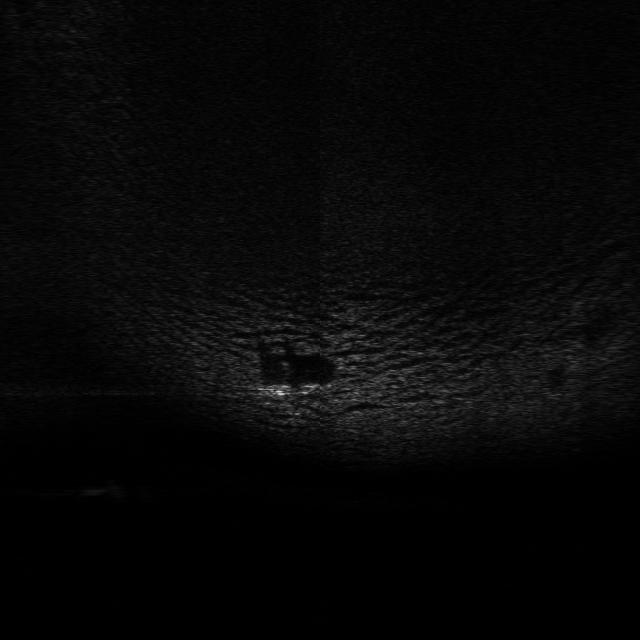plane: (257, 381, 328, 406)
